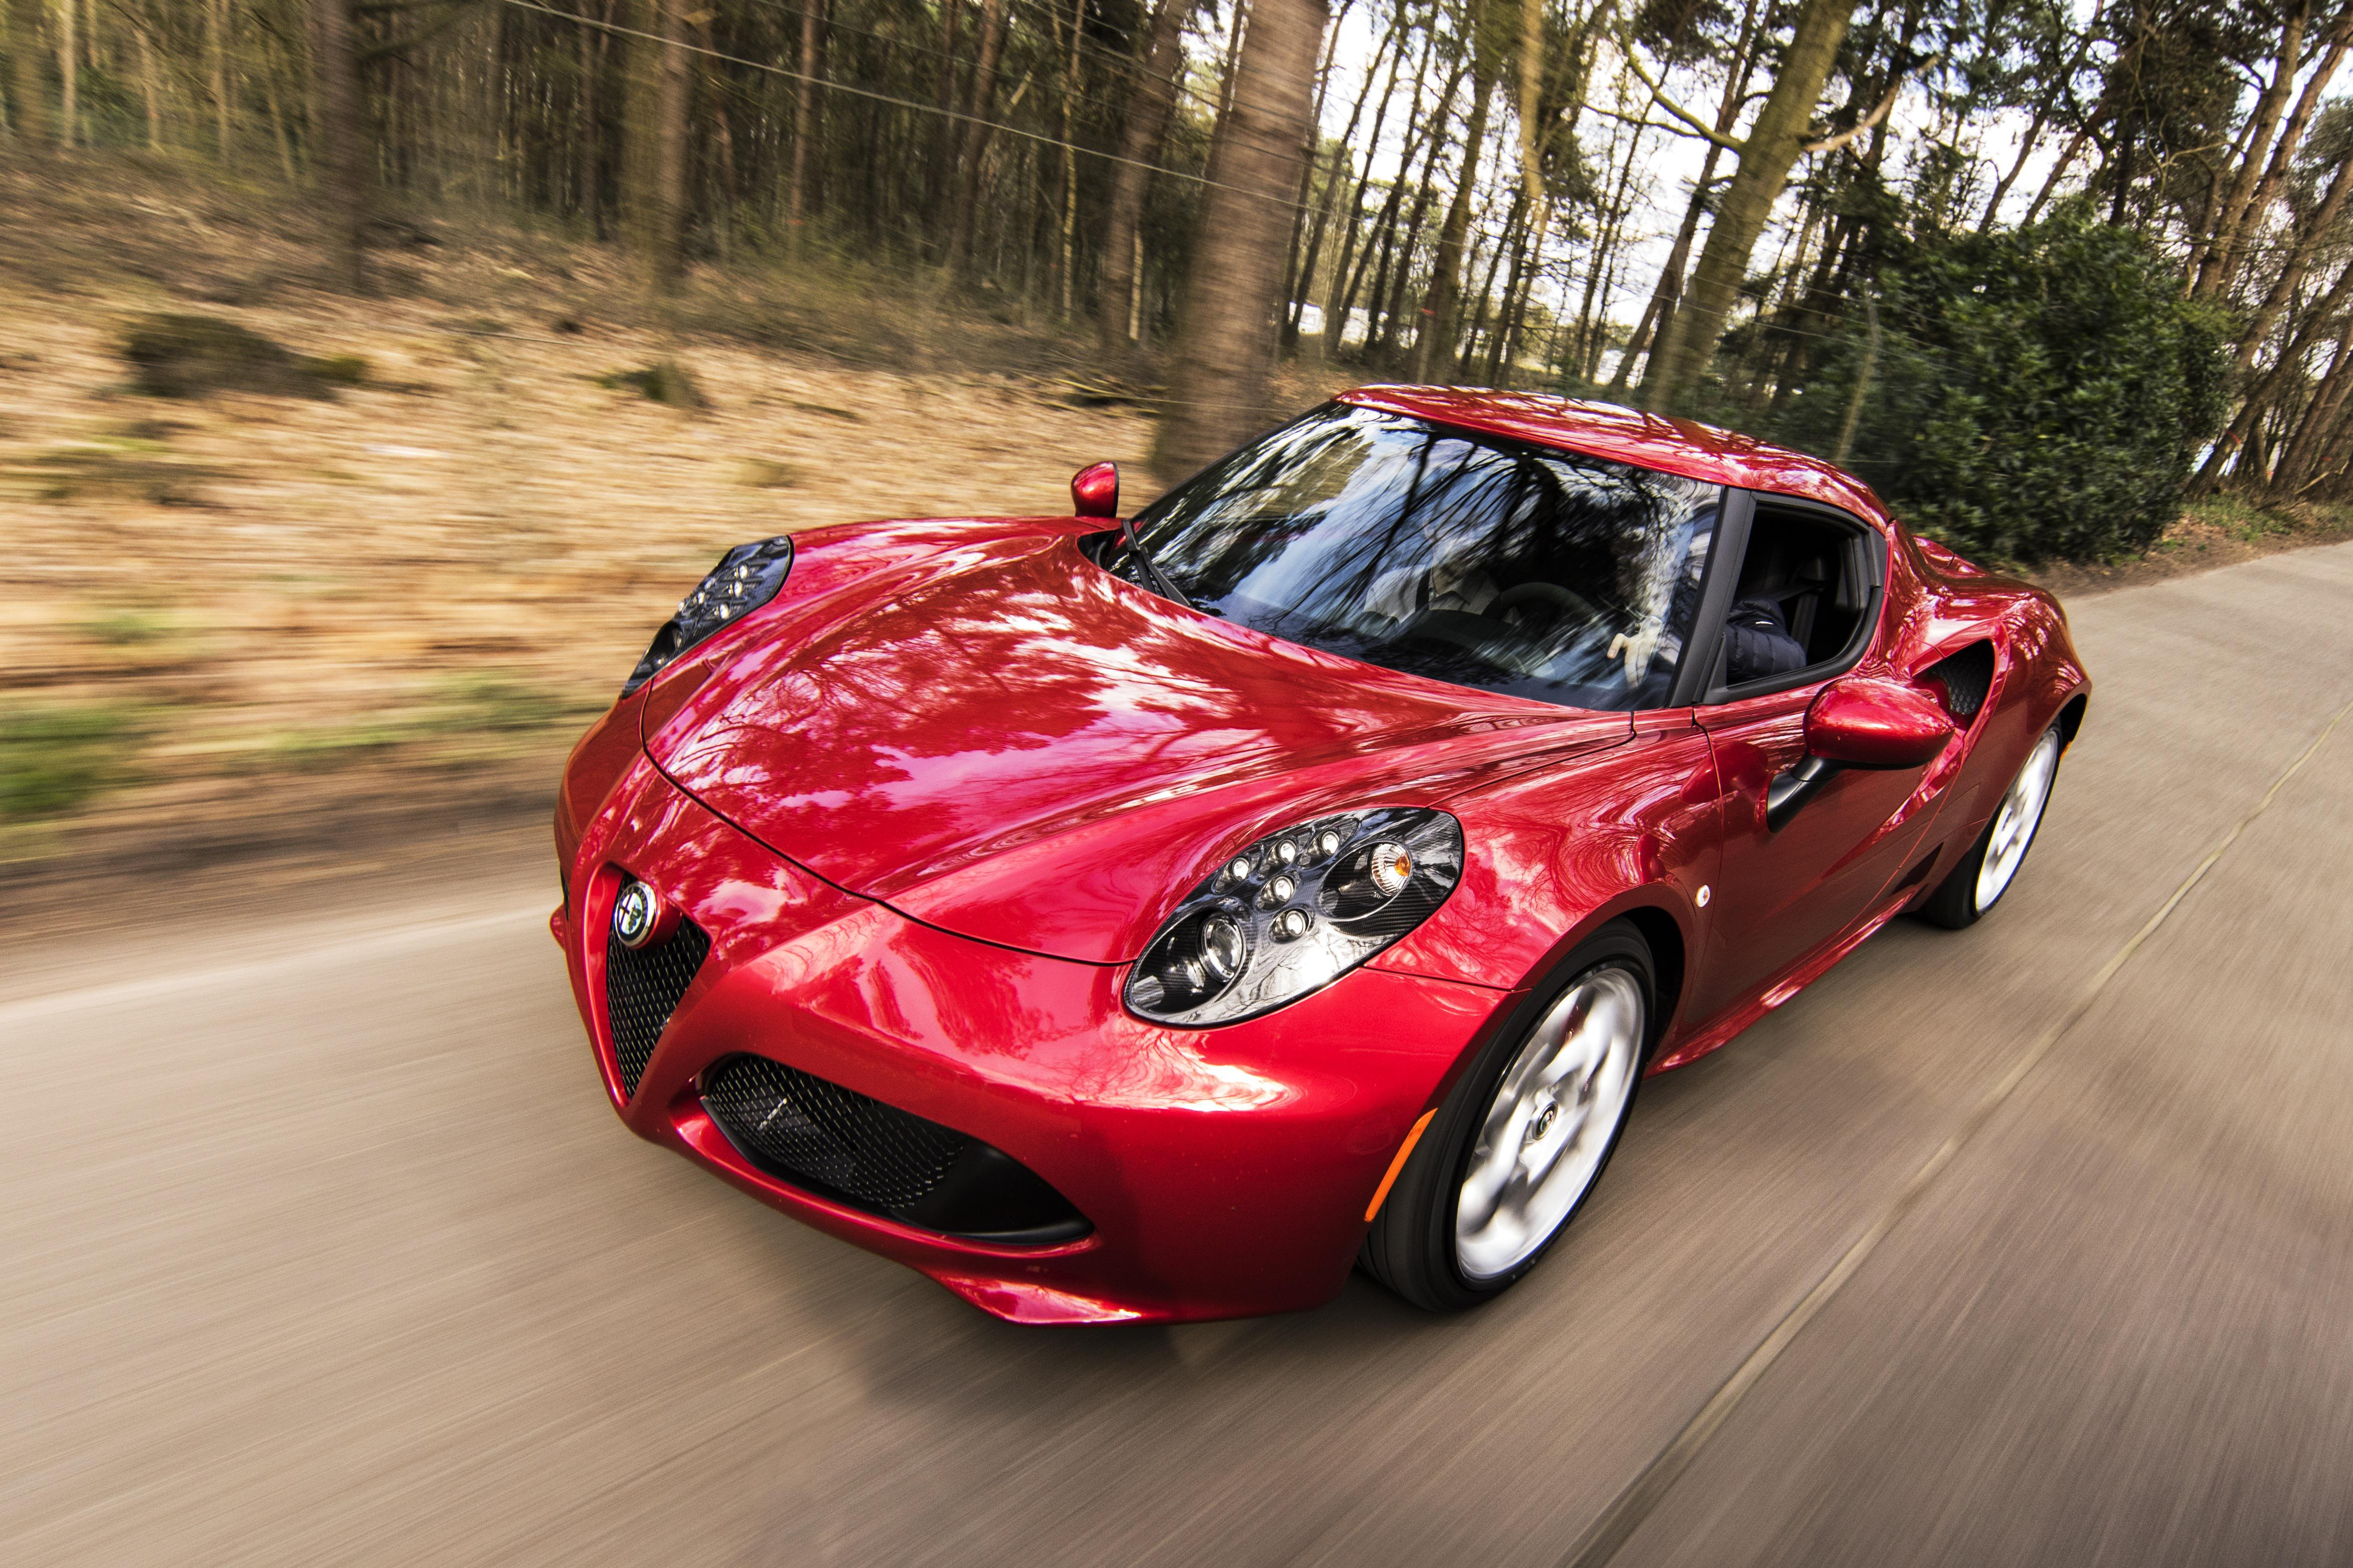car: (499, 353, 2199, 1468)
